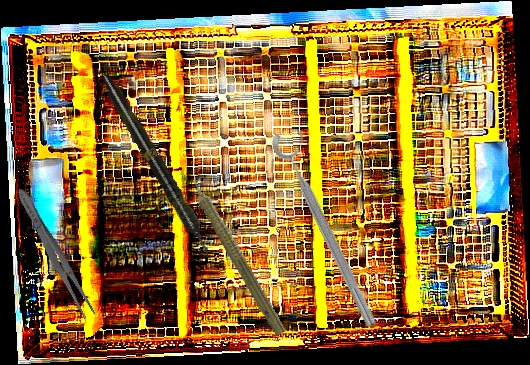Dressing Forceps: (11, 184, 99, 322)
Fixation Ring: (268, 123, 393, 331)
Handpiece: (97, 71, 217, 261), (179, 164, 294, 339)
